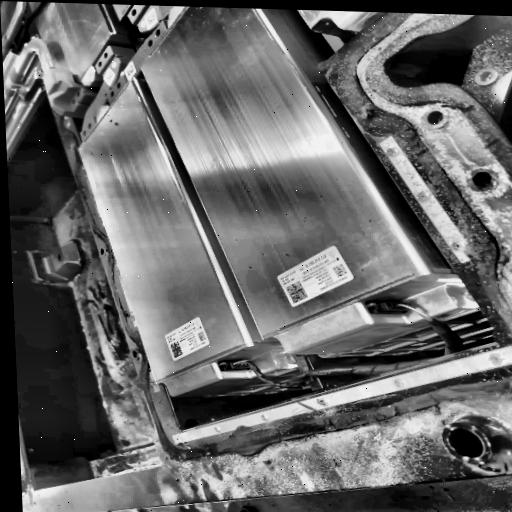battery_module: (136, 5, 422, 339), (76, 78, 249, 382)
busbar: (4, 4, 186, 145), (1, 0, 30, 62)
